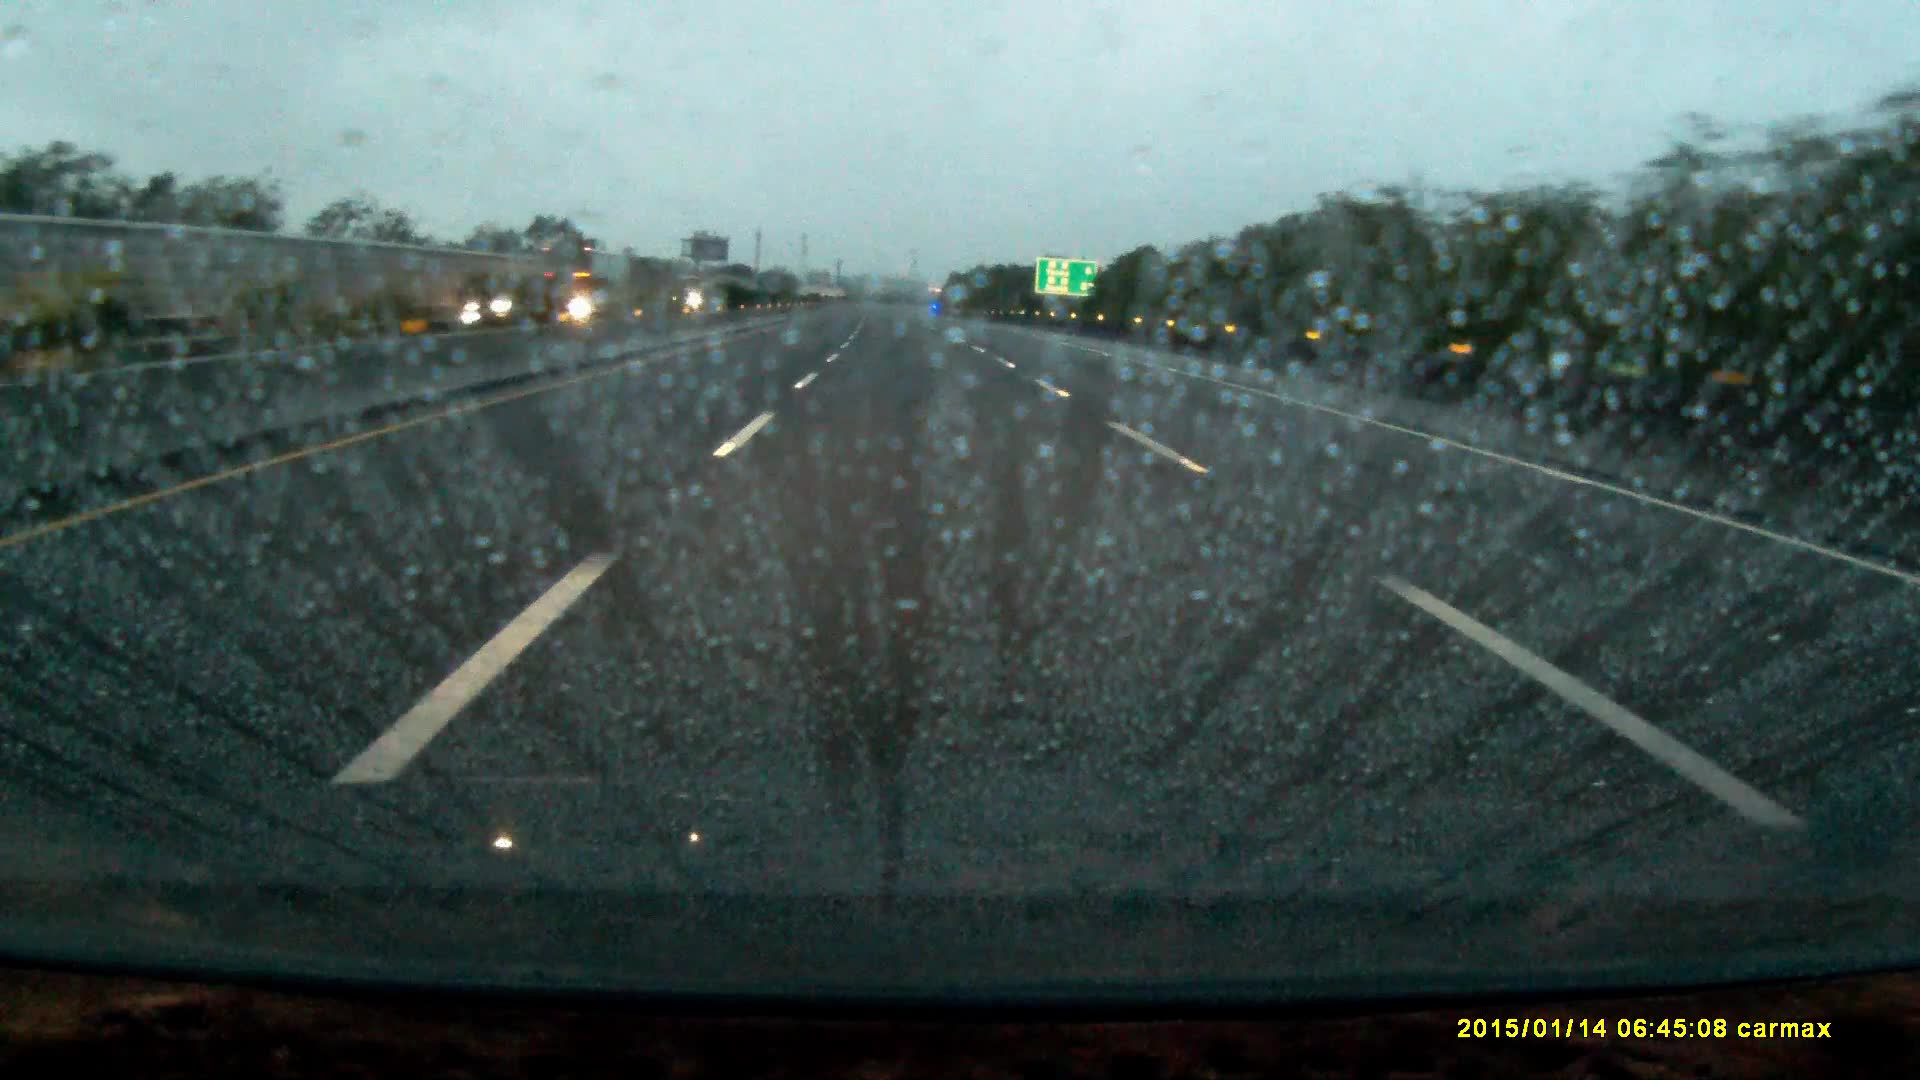vehicle: (545, 245, 633, 319), (460, 285, 534, 326)
